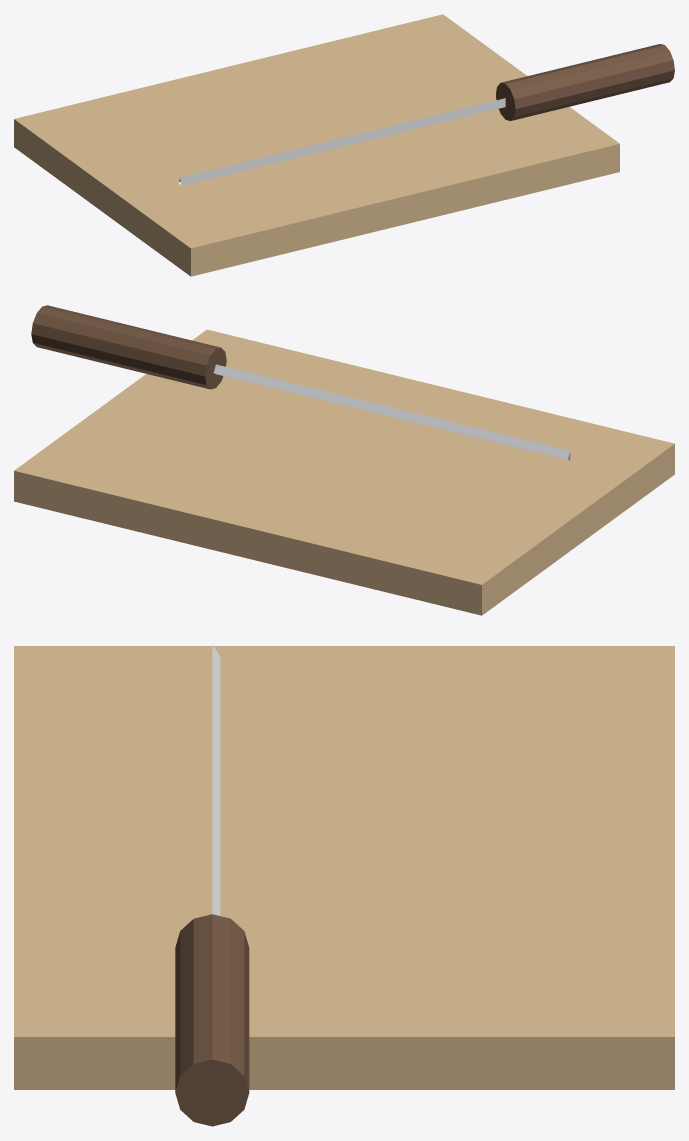
File: cutting-board-knife.glb
3 renders of one model, top to bottom at view 1: azimuth 30°, elevation 25°; view 2: azimuth 150°, elevation 25°; view 3: azimuth 270°, elevation 25°, orthographic. The views are drawn at different scales.
Parts seen in each view (by area): view 1: CuttingBoard, Knife_Handle, Knife_Blade; view 2: CuttingBoard, Knife_Handle, Knife_Blade; view 3: CuttingBoard, Knife_Handle, Knife_Blade.
Boxes of the visible parts, x1,y1,x2,y2 form: CuttingBoard: [14, 14, 619, 276]; Knife_Handle: [495, 44, 674, 120]; Knife_Blade: [178, 98, 505, 186]; CuttingBoard: [14, 329, 674, 615]; Knife_Handle: [31, 305, 226, 389]; Knife_Blade: [213, 364, 570, 460]; CuttingBoard: [14, 646, 674, 1089]; Knife_Handle: [175, 914, 249, 1126]; Knife_Blade: [212, 645, 220, 915].
Size of the model in its own units: 0.43 by 0.05 by 0.25.
